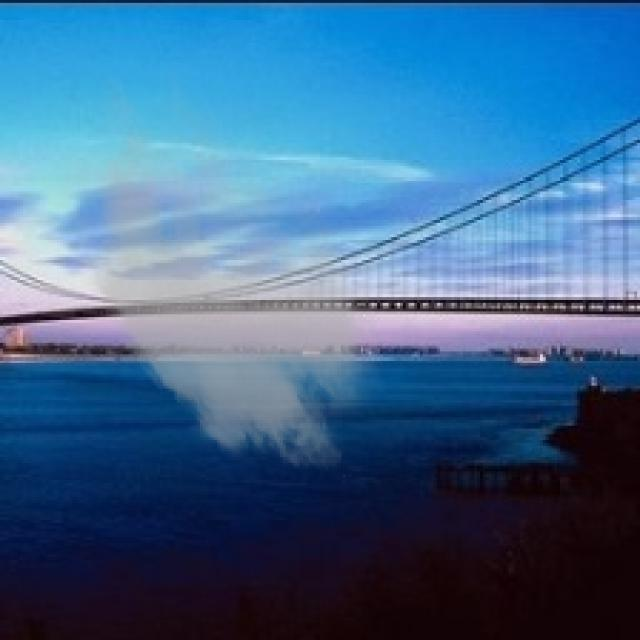Smoke: (52, 71, 397, 483)
